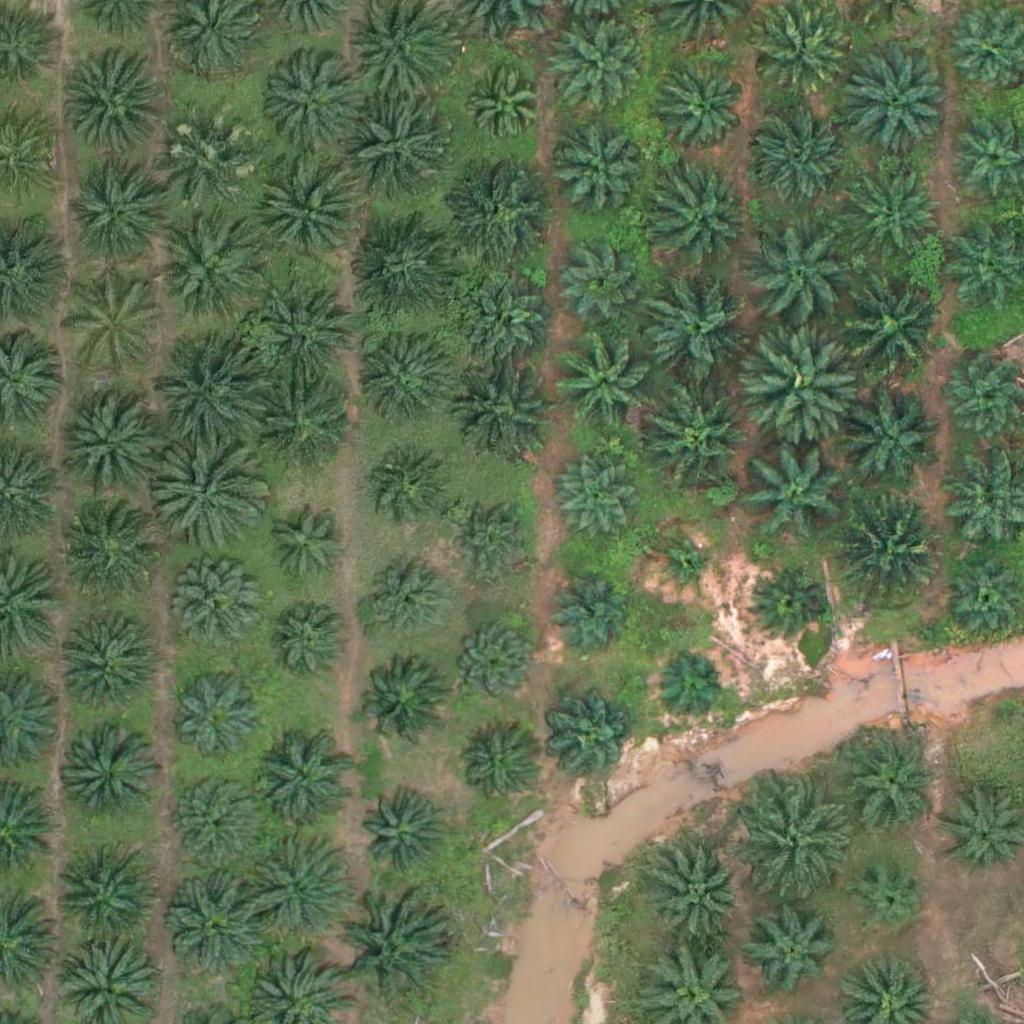Kelapa_Sawit: (645, 161, 758, 275), (737, 786, 850, 900), (440, 157, 553, 270), (751, 327, 864, 440), (335, 891, 448, 1004), (153, 435, 265, 549), (153, 343, 265, 457), (750, 221, 862, 335), (63, 385, 175, 498), (344, 96, 456, 209), (352, 209, 464, 322), (644, 271, 756, 384), (643, 373, 755, 486), (746, 436, 858, 549), (839, 42, 951, 155), (839, 267, 951, 380), (837, 488, 949, 601), (238, 828, 350, 941), (64, 51, 164, 152), (61, 275, 161, 376), (56, 505, 156, 606), (60, 620, 160, 721), (61, 728, 161, 829), (158, 123, 258, 224), (263, 167, 363, 268), (258, 283, 358, 384), (256, 375, 356, 476), (354, 326, 454, 427), (546, 17, 646, 118), (555, 330, 655, 431), (846, 156, 946, 257), (839, 390, 939, 491), (842, 734, 942, 835), (169, 869, 269, 970), (53, 850, 153, 951), (63, 166, 163, 266), (169, 667, 269, 767), (159, 222, 259, 322), (259, 57, 359, 157), (255, 731, 355, 831), (456, 353, 556, 453), (755, 107, 855, 207), (650, 843, 750, 943), (260, 598, 348, 687), (174, 774, 262, 863), (366, 452, 454, 540), (553, 117, 641, 205), (561, 238, 649, 326), (553, 458, 641, 546), (550, 697, 638, 785), (455, 724, 542, 812), (450, 617, 537, 705), (450, 496, 537, 584), (257, 505, 344, 593), (360, 556, 447, 644), (356, 656, 443, 744), (176, 568, 263, 656), (461, 63, 548, 151), (462, 280, 549, 368), (548, 564, 635, 652), (662, 70, 749, 158), (747, 910, 834, 998), (361, 793, 448, 881), (748, 565, 823, 641), (851, 859, 926, 935), (654, 648, 729, 723), (655, 537, 718, 600)
